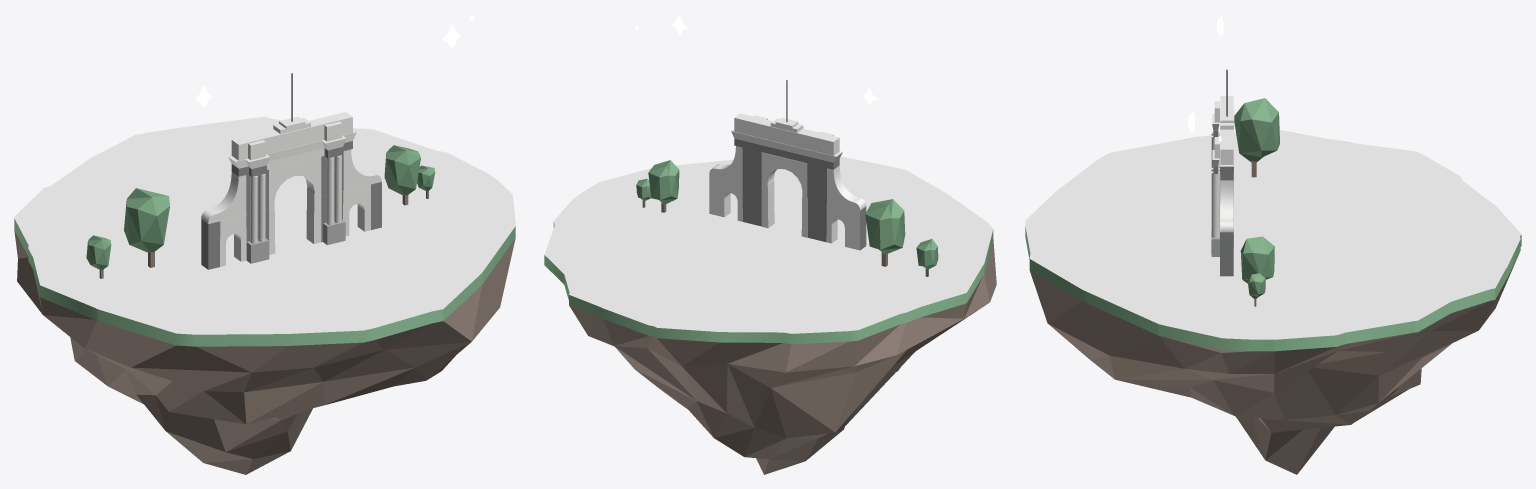
File: gate.gltf
The picture shows the model from 3 angles, left to right: view 1: azimuth 30°, elevation 25°; view 2: azimuth 150°, elevation 25°; view 3: azimuth 270°, elevation 25°; orthographic projection. The views are drawn at different scales.
Parts seen in each view (by area): view 1: 立方体-材质.1 (×2), 球体, 立方体-材质, 胶囊.1 (×3), 立方体.2, 挤压, 布尔, 圆柱体 (×2), 圆柱体.1 (×2), 立方体.1, 立方体.3, 立方体-材质.2; view 2: 立方体-材质.1 (×2), 球体, 立方体-材质, 胶囊.1 (×3), 立方体.2, 立方体-材质.2 (×2), 布尔, 挤压, 立方体.1, 立方体.3, 立方体.2-材质.2; view 3: 立方体-材质.1, 球体, 立方体-材质, 胶囊.1 (×2), 挤压, 立方体.2, 立方体-材质.2, 圆柱体.1.
Part boxes in pixels (<box>): 立方体-材质.1 (×2): <box>14,116,515,334</box>; 球体: <box>14,230,515,474</box>; 立方体-材质: <box>14,218,515,346</box>; 胶囊.1 (×3): <box>86,145,420,269</box>; 立方体.2: <box>231,112,352,160</box>; 挤压: <box>201,149,381,223</box>; 布尔: <box>268,157,321,254</box>; 圆柱体 (×2): <box>250,157,333,243</box>; 圆柱体.1 (×2): <box>258,155,341,241</box>; 立方体.1: <box>246,151,343,214</box>; 立方体.3: <box>228,130,356,168</box>; 立方体-材质.2: <box>208,221,220,269</box>; 立方体-材质.1 (×2): <box>544,156,993,333</box>; 球体: <box>569,239,996,474</box>; 立方体-材质: <box>544,221,993,344</box>; 胶囊.1 (×3): <box>648,160,938,269</box>; 立方体.2: <box>734,113,839,155</box>; 立方体-材质.2 (×2): <box>742,182,826,241</box>; 布尔: <box>761,152,807,237</box>; 挤压: <box>709,146,866,210</box>; 立方体.1: <box>742,147,826,202</box>; 立方体.3: <box>731,129,842,162</box>; 立方体.2-材质.2: <box>734,138,839,169</box>; 立方体-材质.1: <box>1025,130,1521,339</box>; 球体: <box>1029,253,1519,474</box>; 立方体-材质: <box>1025,227,1521,351</box>; 胶囊.1 (×2): <box>1234,98,1279,283</box>; 挤压: <box>1220,180,1233,232</box>; 立方体.2: <box>1220,96,1233,164</box>; 立方体-材质.2: <box>1220,232,1233,276</box>; 圆柱体.1: <box>1211,171,1219,238</box>.
Bounding box in the file's own units: 2958 × 2849 × 2932.
